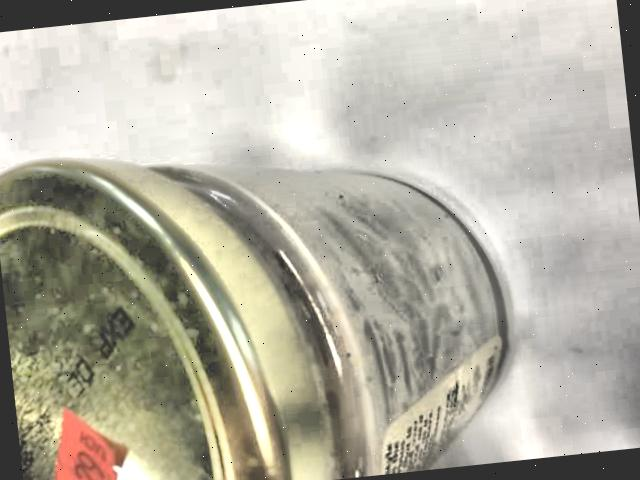Almennt: (0, 92, 533, 480)
